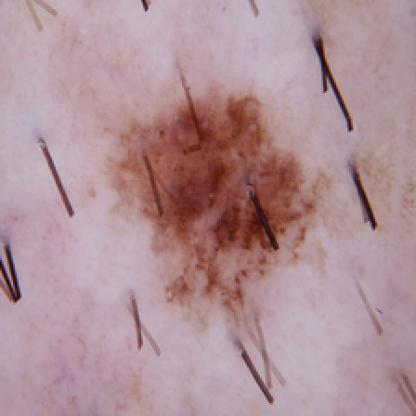Skin_Cancer-Malignant: (102, 78, 328, 337)
